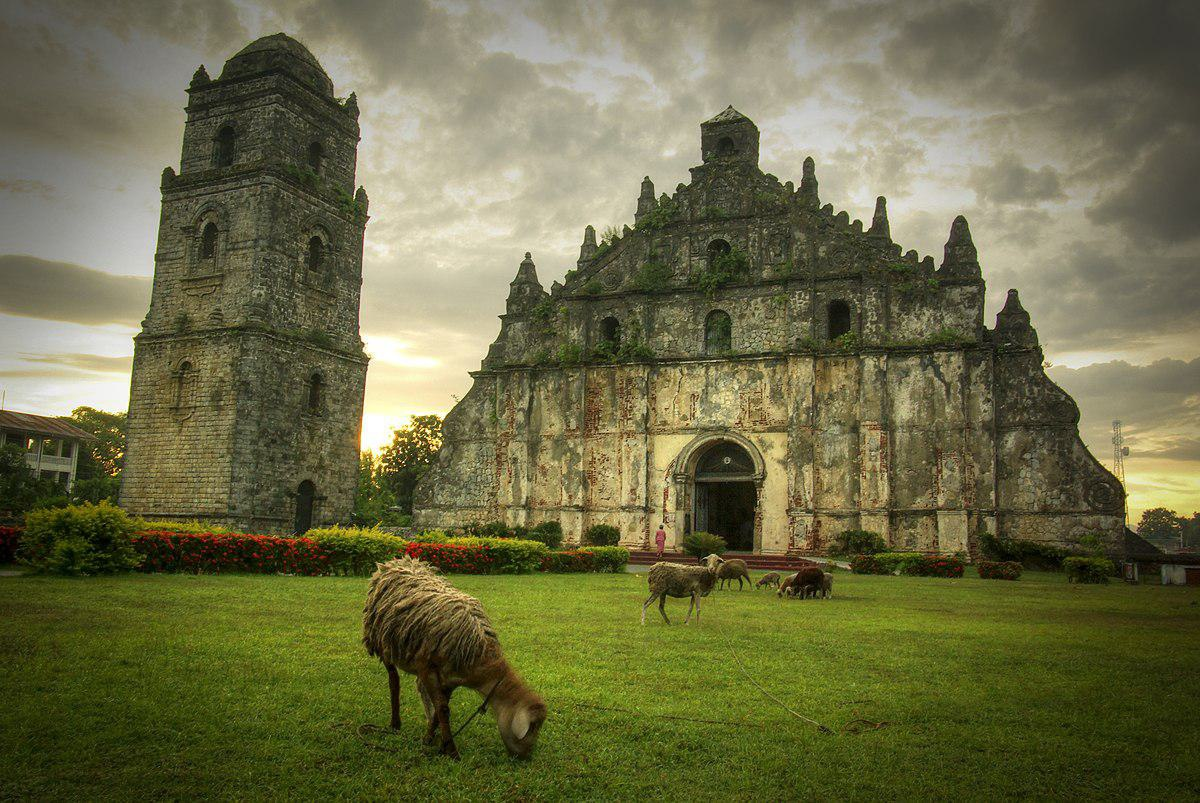paoay_church_paoay_ilocos_norte: (111, 18, 1131, 563)
vegetation_damage: (284, 165, 361, 215), (552, 334, 655, 369), (704, 250, 755, 303), (622, 256, 678, 301), (780, 329, 863, 357)
